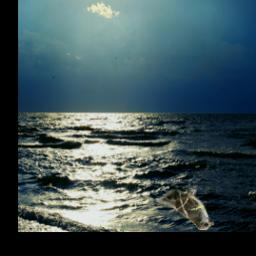Cuckoo: (157, 190, 215, 231)
